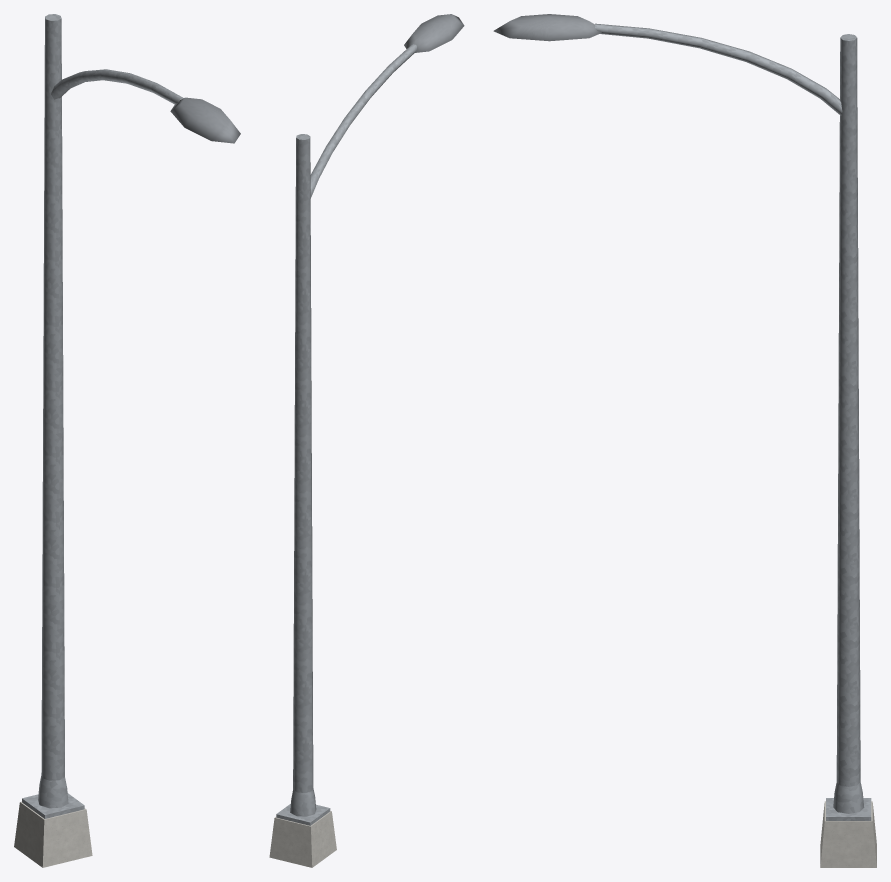
Rendered from lamp_post_cobra.gltf.
3 renders of one model, left to right at view 1: azimuth 30°, elevation 25°; view 2: azimuth 150°, elevation 25°; view 3: azimuth 270°, elevation 25°, orthographic. The views are drawn at different scales.
Parts seen in each view (by area): view 1: lamp_post_cobra; view 2: lamp_post_cobra; view 3: lamp_post_cobra.
Boxes of the visible parts, x1,y1,x2,y2 form: lamp_post_cobra: (14, 14, 240, 867); lamp_post_cobra: (269, 14, 464, 867); lamp_post_cobra: (493, 14, 876, 867).
Size of the model in its own units: 0.4 by 6.56 by 2.72.
4 materials, 3 textured.
